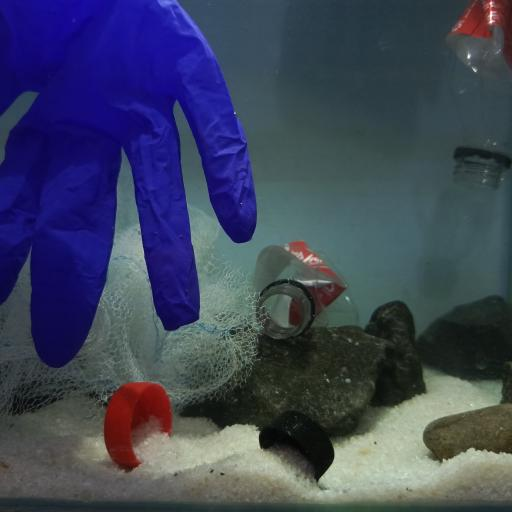bottle_cap: (103, 381, 173, 471), (259, 409, 336, 481)
glove: (0, 1, 258, 368)
net: (0, 191, 268, 422)
plastic_bottle: (441, 0, 512, 189), (250, 239, 360, 341)
